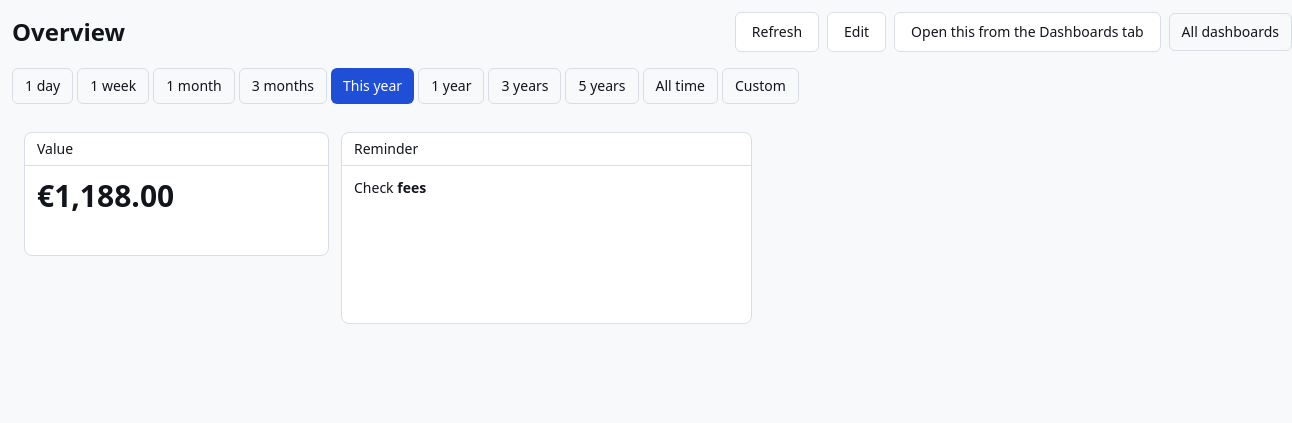
it: copying a widget and removing filter bars (edit mode) › removes the timeframe bar, keeps the period, and adds it back
This screenshot has width=1292, height=423.
Check: the text "€1,188.00" is shown, box [37,175,174,216]
Check: the button "Remove the timeframe filter" is not shown
Click the button "Edit": (857, 32) [827,12,886,52]
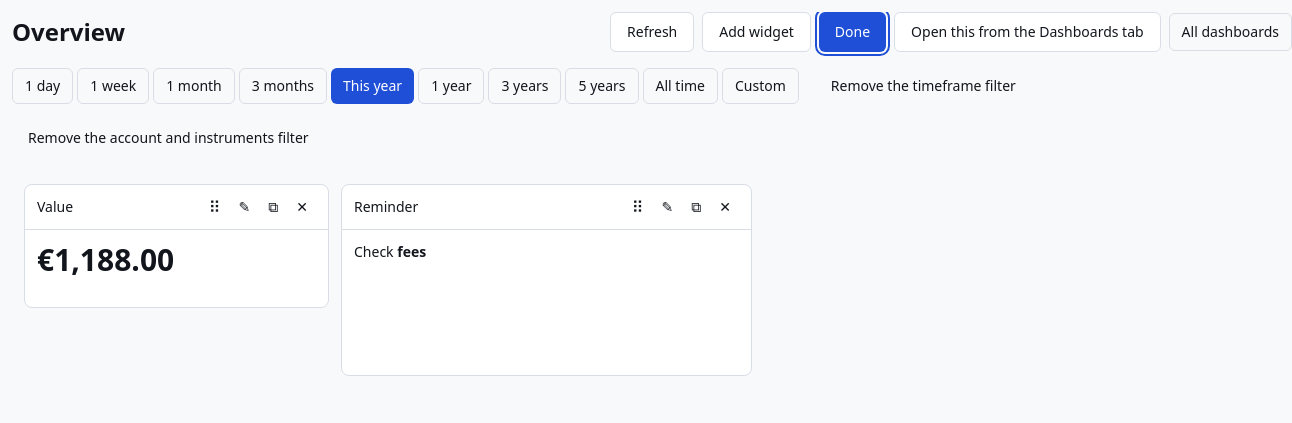
Click the button "Remove the timeframe filter": (923, 86) [815,68,1032,104]
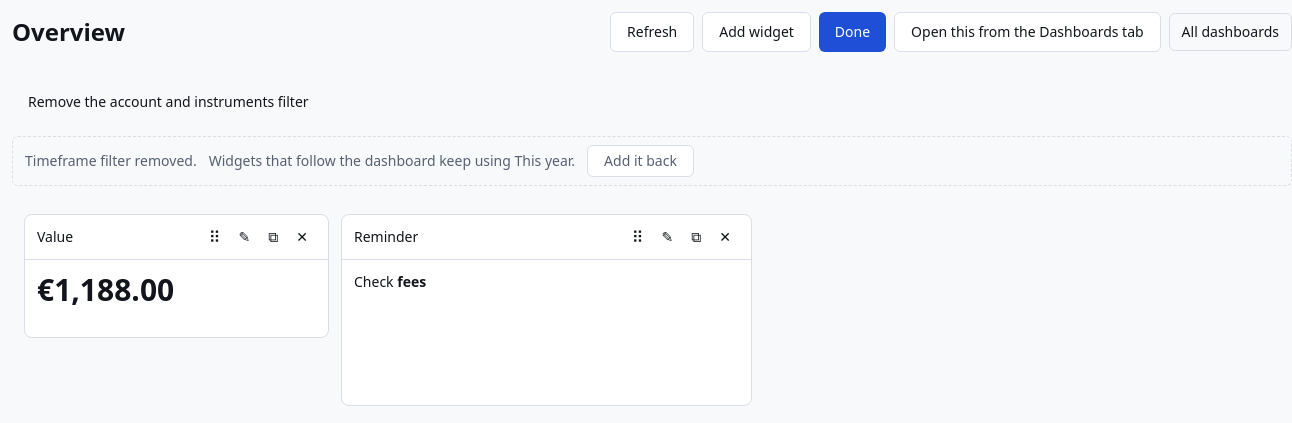
Check: the element "Period" is gone
Check: the text "Timeframe filter removed." is shown, box [25,151,197,171]
Check: the text "Widgets that follow the dashboard keep using This year." is shown, box [209,151,575,171]
Click the button "Add it back": (640, 161) [587,145,694,177]
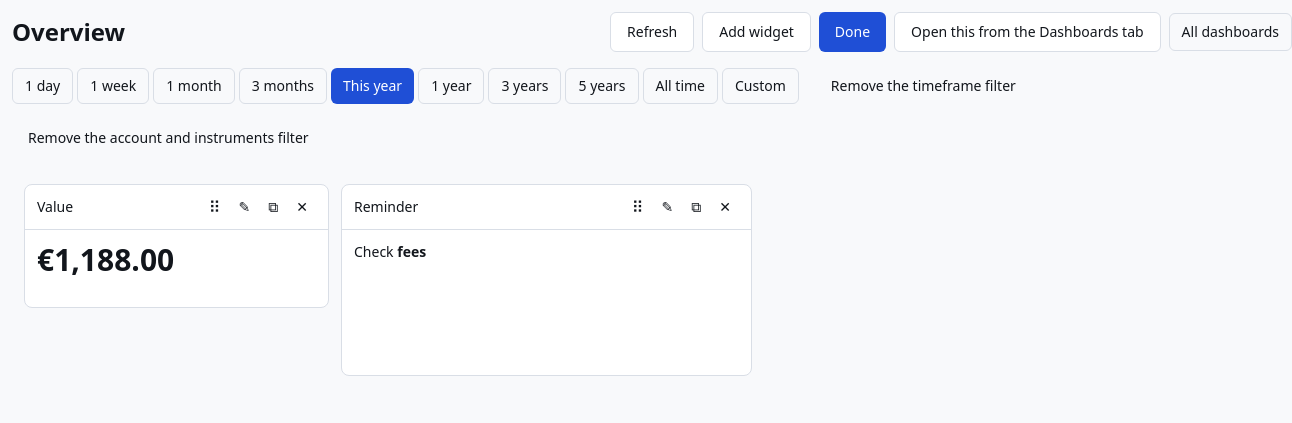
Check: the element named "Period" is shown, box [12,68,799,104]
Check: the text "Timeframe filter removed." is gone
